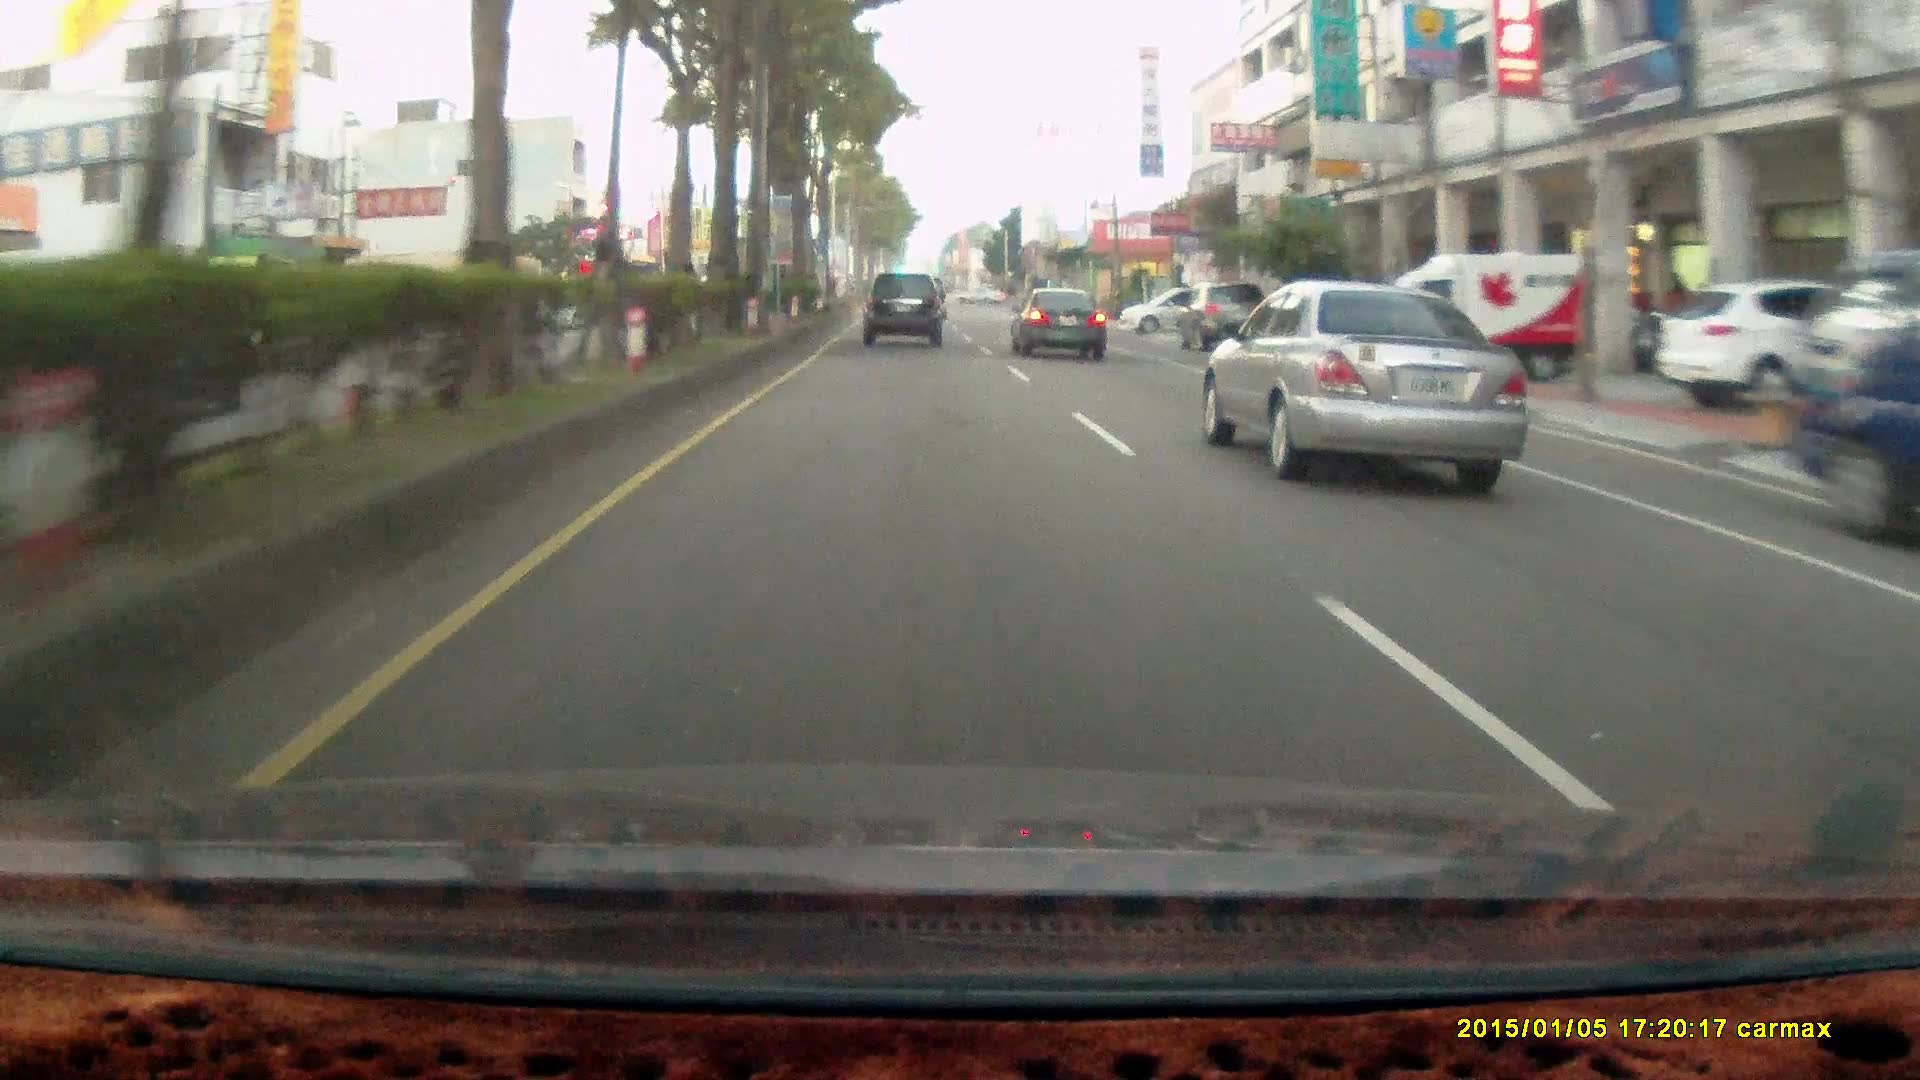vehicle: (1212, 289, 1539, 488), (1774, 253, 1920, 542), (1772, 253, 1919, 541), (1654, 278, 1917, 410), (1654, 280, 1917, 411), (1370, 251, 1590, 390), (1370, 251, 1593, 388), (1010, 287, 1112, 365), (864, 272, 951, 352), (1010, 290, 1106, 363), (1112, 284, 1229, 339), (1112, 282, 1228, 338), (1174, 285, 1266, 352), (1185, 287, 1273, 359), (861, 270, 942, 345)
